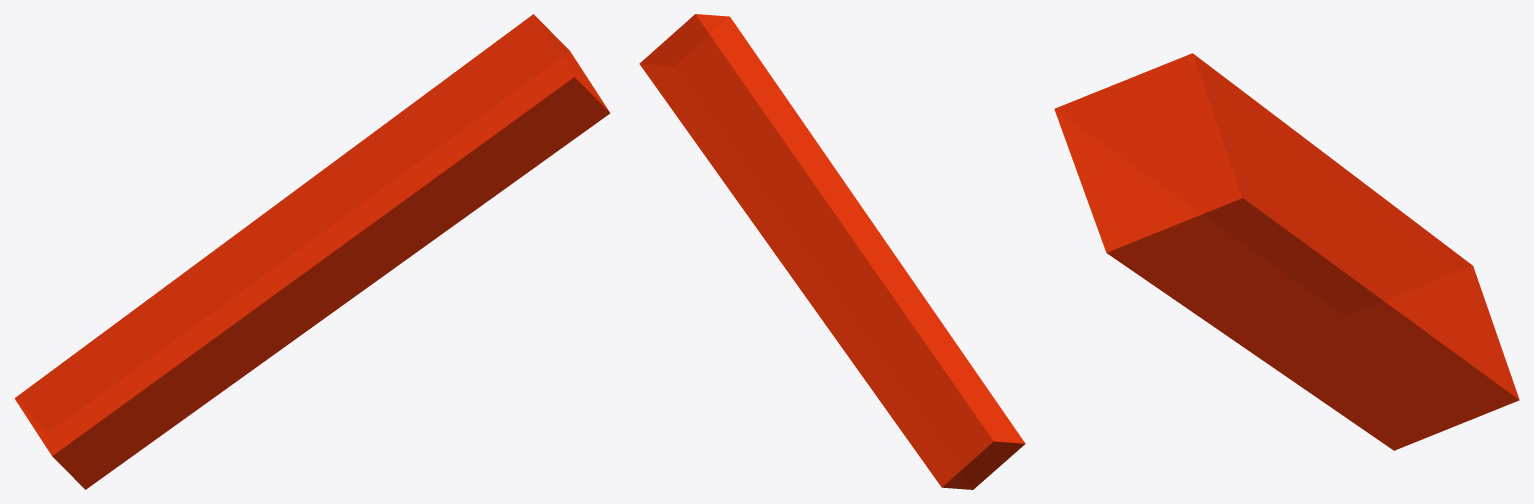
The model's file is Event_421115418_EBrechit_29.fbx.
3 renders of one model, left to right at view 1: azimuth 30°, elevation 25°; view 2: azimuth 150°, elevation 25°; view 3: azimuth 270°, elevation 25°, orthographic. The views are drawn at different scales.
Parts seen in each view (by area): view 1: Model; view 2: Model; view 3: Model.
Boxes of the visible parts, x1,y1,x2,y2 form: Model: (14, 14, 610, 489); Model: (639, 14, 1025, 489); Model: (1054, 53, 1519, 450).
Bounding box in the file's own units: 0.3831 × 0.3189 × 0.1874.
